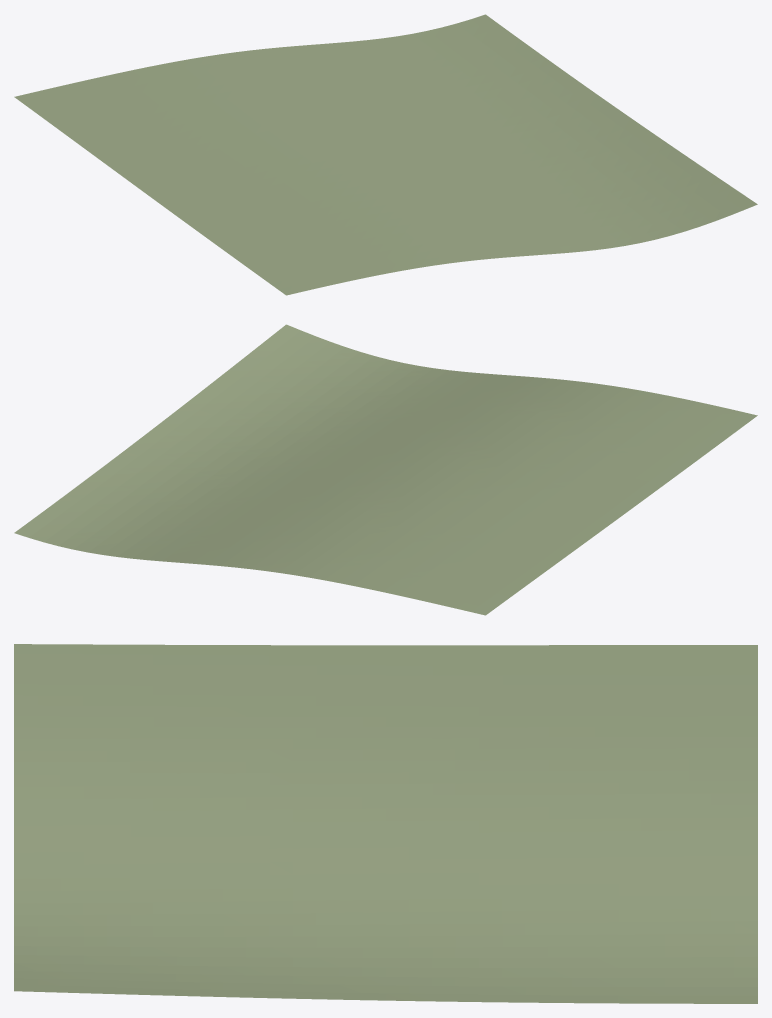
The model's file is desert-13-3.glb.
3 views of the same model, one above another, from view 1: azimuth 30°, elevation 25°; view 2: azimuth 150°, elevation 25°; view 3: azimuth 270°, elevation 25° (orthographic). The views are drawn at different scales.
Parts seen in each view (by area): view 1: desert-13-3; view 2: desert-13-3; view 3: desert-13-3.
Part boxes in pixels (box(x1,y1,x2,y2)): desert-13-3: box(14, 14, 757, 295); desert-13-3: box(14, 324, 757, 615); desert-13-3: box(14, 644, 757, 1003).
Bounding box in the file's own units: 512 × 37.18 × 512.
